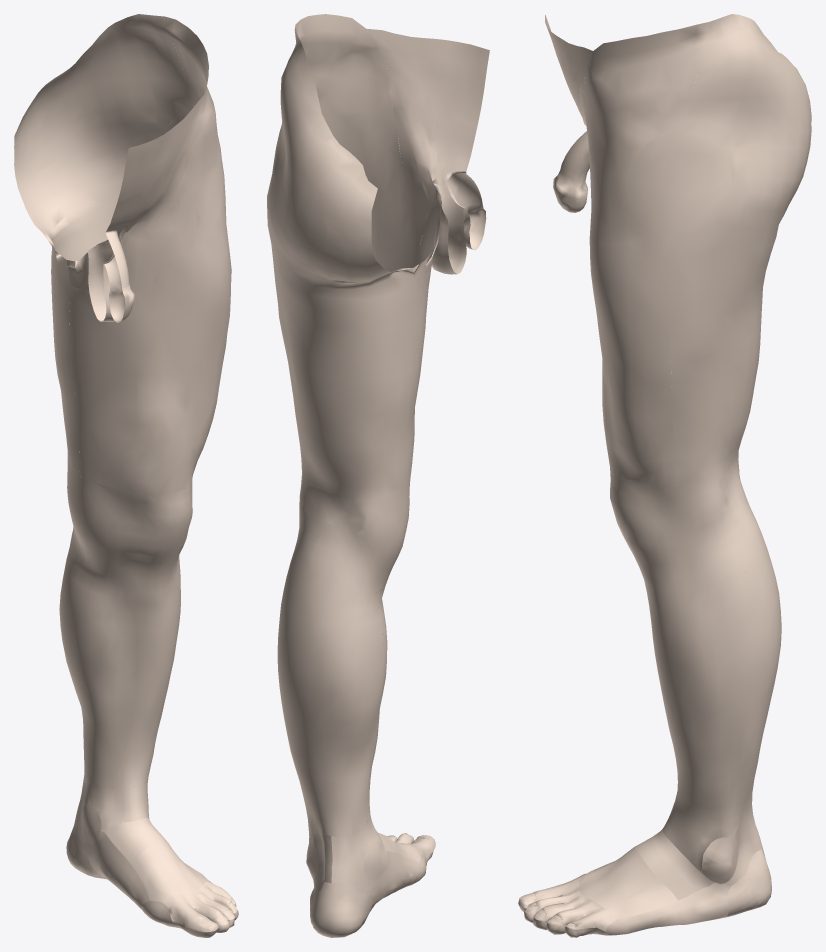
The model's file is skin.glb.
3 views of the same model, side by side, from view 1: azimuth 30°, elevation 25°; view 2: azimuth 150°, elevation 25°; view 3: azimuth 270°, elevation 25° (orthographic). The views are drawn at different scales.
Visible parts, largest first — view 1: Anterior region of thigh.l.001, Gluteal region.l.001, Anterior region of leg.l.001, Anterior region of knee.l.001, Posterior region of thigh.l.001, Urogenital region.l.001, Femoral triangle.l.001, Hypogastric region.l.001, Posterior region of leg.l.001, Metatarsal region.l.001, Dorsal surfaces of digits of foot.l.001, Anterior region of ankle.l.001 (+8 smaller); view 2: Posterior region of thigh.l.001, Posterior region of leg.l.001, Gluteal region.l.001, Anterior region of thigh.l.001, Posterior region of knee.l.001, Hypogastric region.l.001, Urogenital region.l.001, Inguinal region.l.001, Femoral triangle.l.001, Heel region.l.001, Medial retromalleolar region.l.001, Popliteal fossa.l.001 (+8 smaller); view 3: Anterior region of thigh.l.001, Posterior region of thigh.l.001, Gluteal region.l.001, Posterior region of leg.l.001, Anterior region of leg.l.001, Hip region.l.001, Posterior region of knee.l.001, Anterior region of knee.l.001, Metatarsal region.l.001, Lateral border of foot.l.001, Dorsal surfaces of digits of foot.l.001, Dorsum of foot.l.001 (+8 smaller).
Part boxes in pixels (x1,y1,x2,y2): Anterior region of thigh.l.001: (69,16,231,494); Gluteal region.l.001: (14,14,193,235); Anterior region of leg.l.001: (75,563,180,787); Anterior region of knee.l.001: (78,476,192,581); Posterior region of thigh.l.001: (51,200,147,475); Urogenital region.l.001: (66,230,134,322); Femoral triangle.l.001: (122,138,192,291); Hypogastric region.l.001: (106,125,176,231); Posterior region of leg.l.001: (59,537,93,784); Metatarsal region.l.001: (131,841,208,902); Dorsal surfaces of digits of foot.l.001: (163,881,237,932); Anterior region of ankle.l.001: (84,778,149,830); Posterior region of thigh.l.001: (268,229,423,500); Posterior region of leg.l.001: (277,576,383,836); Gluteal region.l.001: (267,30,397,282); Anterior region of thigh.l.001: (294,14,441,485); Posterior region of knee.l.001: (287,474,406,595); Hypogastric region.l.001: (423,38,489,176); Urogenital region.l.001: (424,170,486,284); Inguinal region.l.001: (366,28,436,180); Femoral triangle.l.001: (387,67,435,244); Heel region.l.001: (310,880,372,937); Medial retromalleolar region.l.001: (331,835,378,893); Popliteal fossa.l.001: (303,484,363,533); Anterior region of thigh.l.001: (584,22,709,487); Posterior region of thigh.l.001: (669,222,778,485); Gluteal region.l.001: (682,14,811,228); Posterior region of leg.l.001: (696,547,781,818); Anterior region of leg.l.001: (644,580,712,818); Hip region.l.001: (625,133,731,236); Posterior region of knee.l.001: (677,473,766,588); Anterior region of knee.l.001: (610,468,696,589); Metatarsal region.l.001: (579,847,677,919); Lateral border of foot.l.001: (605,882,731,935); Dorsal surfaces of digits of foot.l.001: (518,876,615,931); Dorsum of foot.l.001: (634,829,714,900).
Size of the model in its own units: 0.1819 by 1.02 by 0.294.
